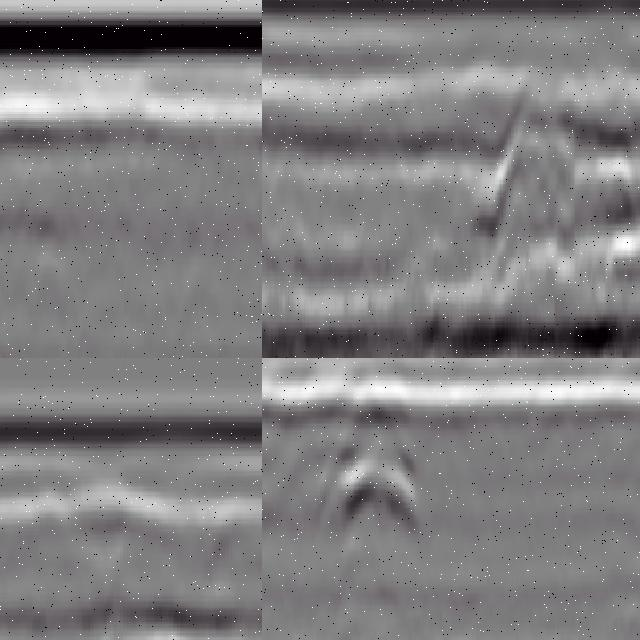loose: (457, 69, 640, 359), (263, 381, 419, 535)
